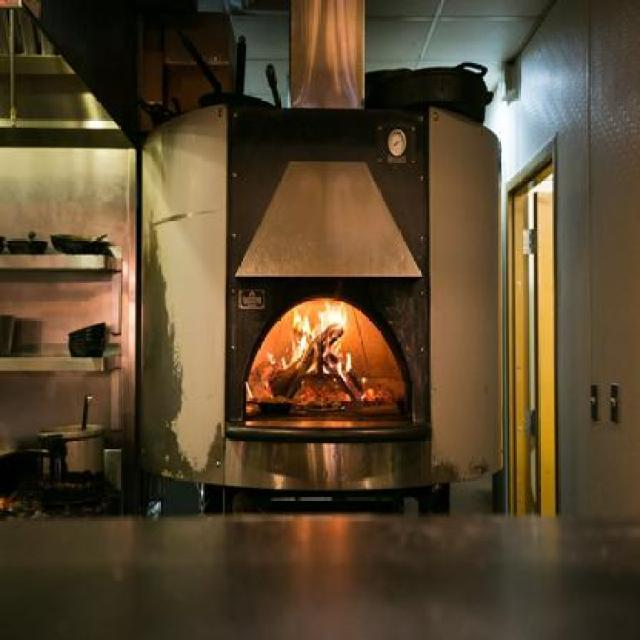Fire: (278, 299, 364, 411), (293, 3, 363, 112)
